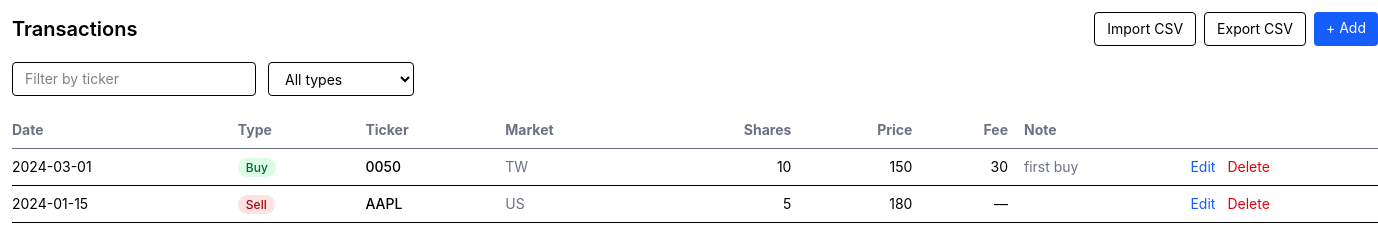
Test: TransactionList › filters by type
Check: the text "0050" is shown, box [365,148,505,186]
Select "Sell" in the dropdown named "Filter by type": point(341, 79) [268,62,414,96]
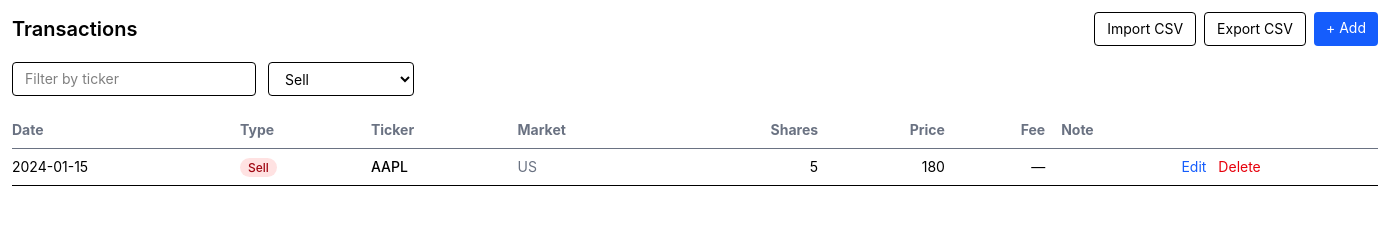
Check: the text "AAPL" is shown, box [371,148,518,186]
Check: the text "0050" is gone
